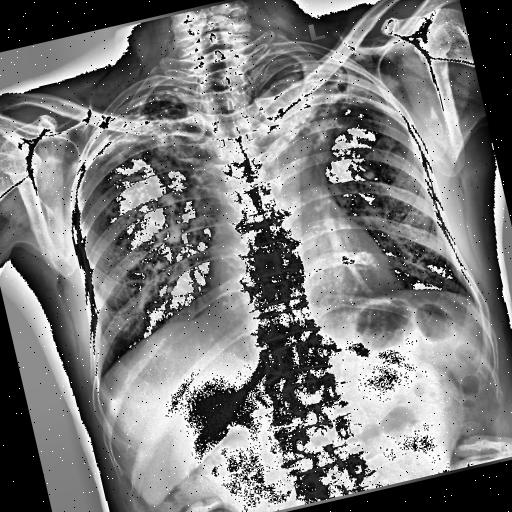1- Atelectasis: (246, 40, 393, 148), (64, 77, 198, 186)
11- Pleural thickening: (237, 24, 393, 136), (98, 76, 193, 120), (74, 125, 118, 177), (69, 121, 120, 165)
13- Pulmonary fibrosis: (252, 40, 382, 198), (74, 79, 210, 213), (246, 40, 393, 148), (64, 77, 198, 186), (84, 88, 198, 193), (290, 50, 388, 156)
2- Calcification: (84, 88, 198, 193)
4- Consolidation: (252, 40, 382, 198), (246, 40, 393, 148)
6- Infiltration: (64, 77, 198, 186)
7- Lung Opacity: (252, 40, 382, 198)
